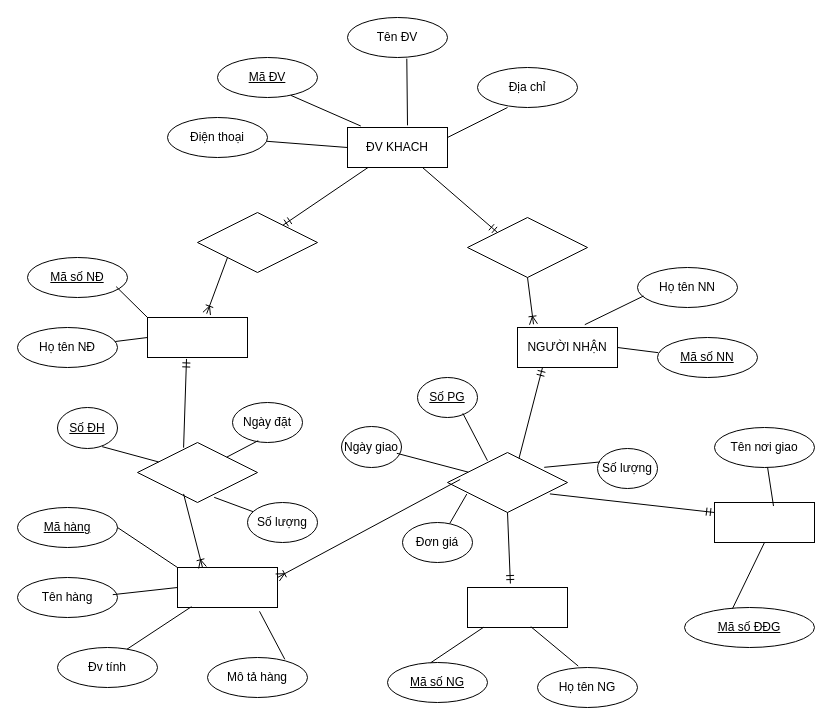
This 832x725 diagram has some shape labels left out. Here are the shapes that lost their labels. From the top down, the box of each, then its label:
(196, 212, 318, 272): Thuộc 1
(466, 216, 588, 278): Thuộc 2
(146, 316, 248, 358): NGƯỜI ĐẶT
(136, 442, 258, 502): Đặt
(446, 452, 568, 512): Giao
(714, 502, 814, 542): NƠI GIAO
(176, 566, 278, 608): HÀNG
(466, 586, 568, 628): NGƯỜI GIAO
